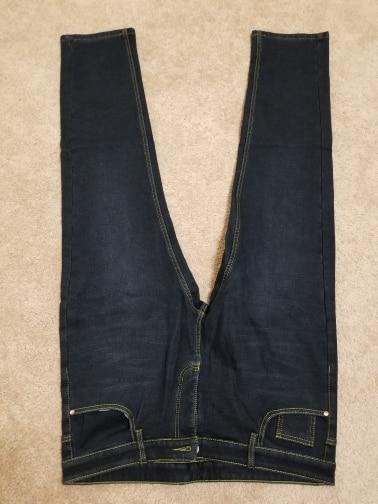jeans: (51, 21, 347, 480)
